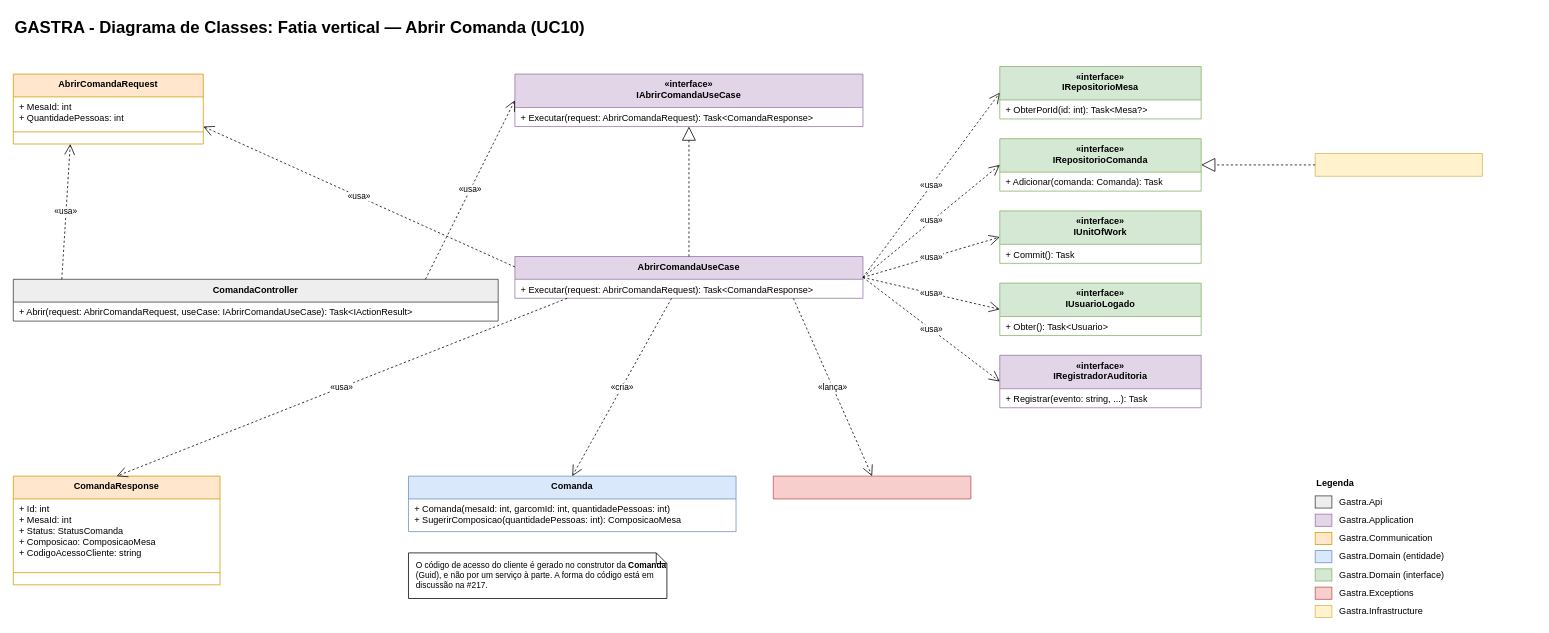
Some shapes in this 1549 by 633 pixel diagram are drawn without their labels. Here are the shapes that lost their labels. From the top down, the centre of each, then its label:
At pixel 1398 164: "RepositorioComanda".
At pixel 872 487: "NaoEncontradoException".
